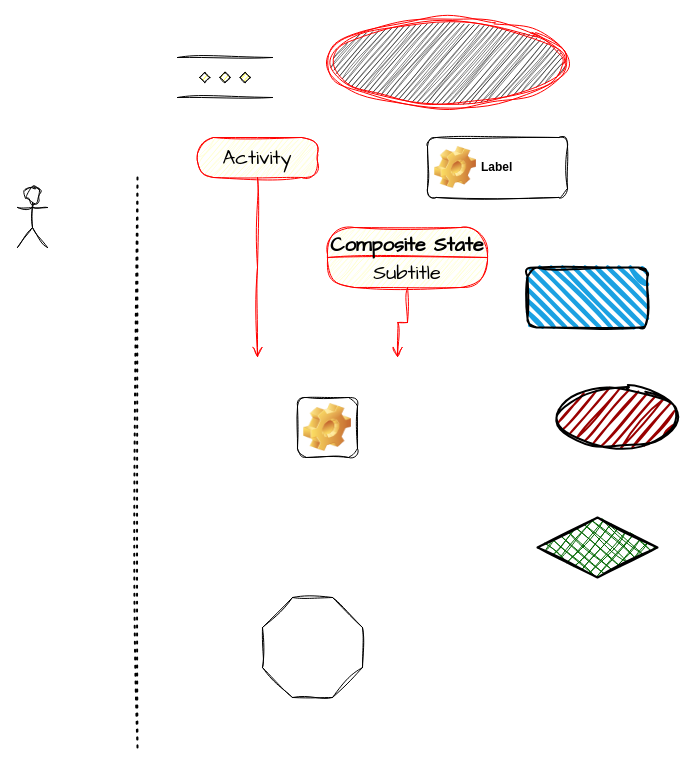
Some shapes in this 696 by 767 pixel diagram are drawn without their labels. The shapes that lost their labels are listed below. From the top down, each one's centre as x and y in pixels, then its label:
At pixel 32 217: "Actor".
At pixel 327 427: "Icon".
